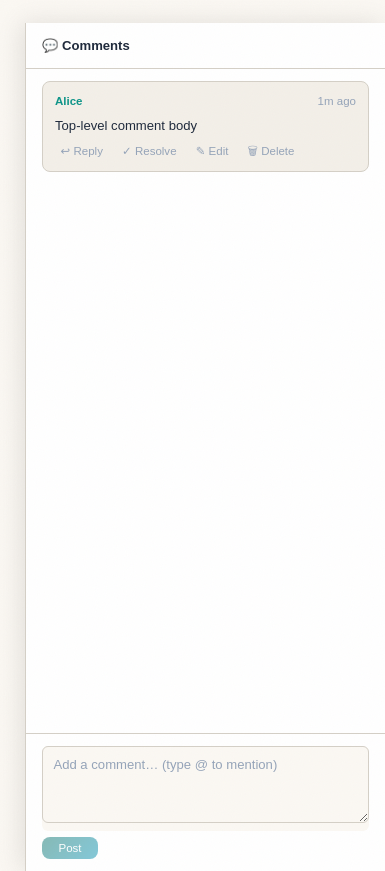
Test: CommentPanel – reply › shows reply form when Reply is clicked
Expected: the text "Top-level comment body" is shown, [55,118,197,133]
What coordinates should you click on to do the following:
click the button named "reply to comment"
I would click on:
 (82, 152)
Its box is [55,143,108,161].
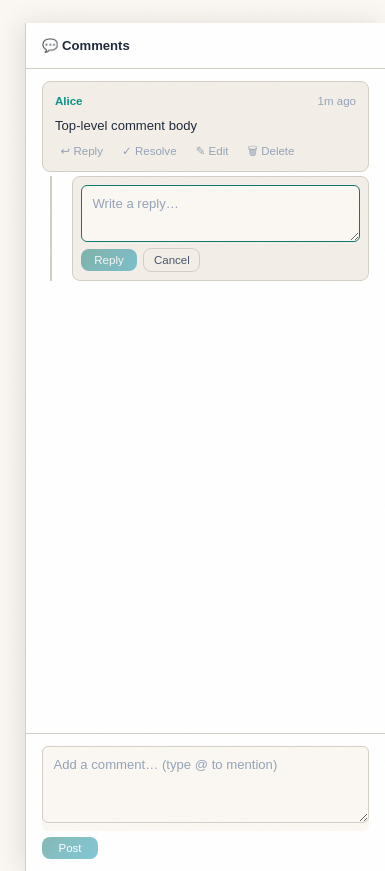
Now the text box with placeholder "Write a reply…" is shown, box [81,185,360,242]
